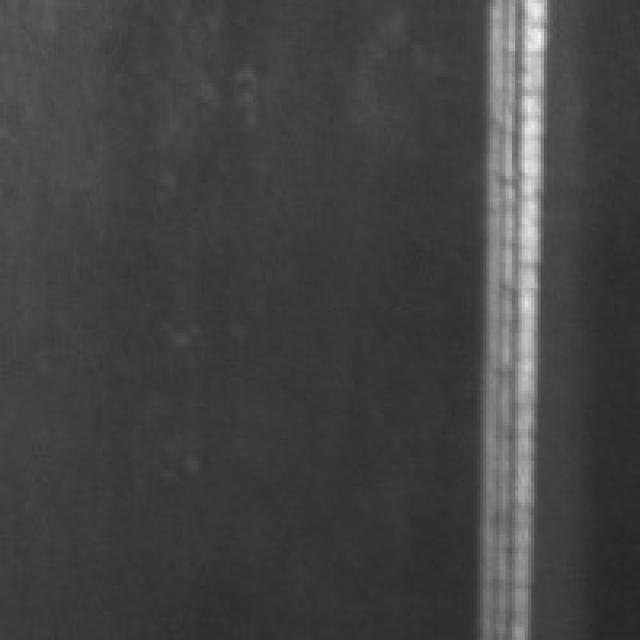scratches: (464, 0, 550, 634)
